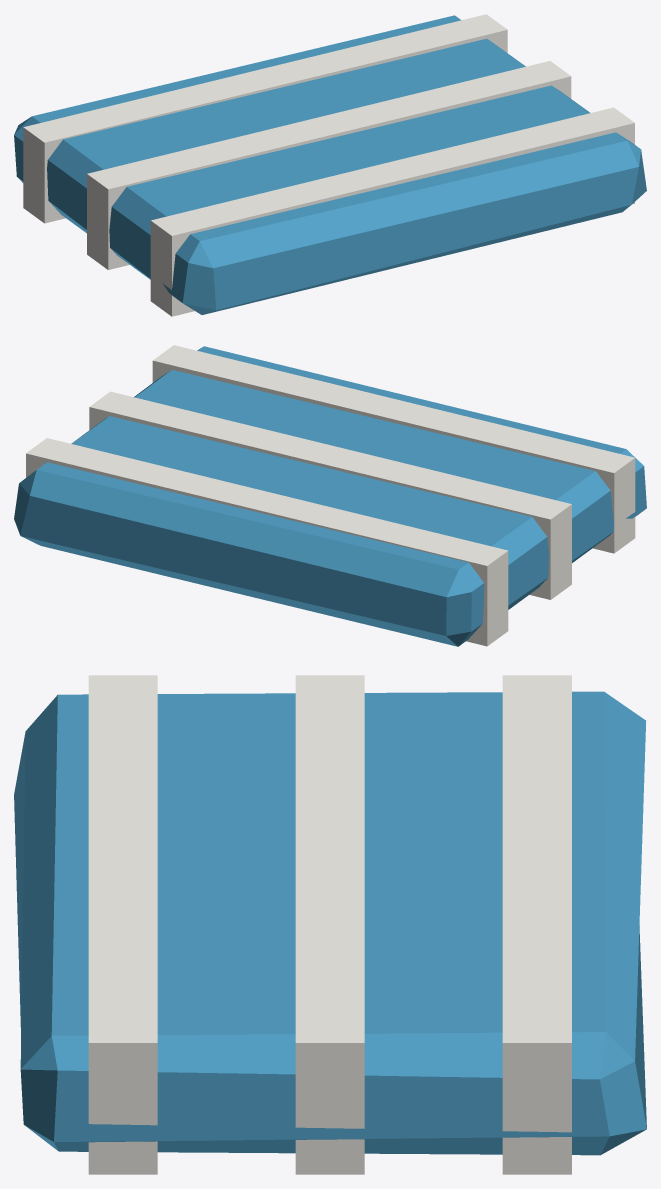
The model's file is towel.fbx.
3 views of the same model, one above another, from view 1: azimuth 30°, elevation 25°; view 2: azimuth 150°, elevation 25°; view 3: azimuth 270°, elevation 25° (orthographic). The views are drawn at different scales.
Parts seen in each view (by area): view 1: towel; view 2: towel; view 3: towel.
Boxes of the visible parts, x1=… form: towel: x1=14, y1=14, x2=646, y2=316; towel: x1=14, y1=345, x2=646, y2=646; towel: x1=14, y1=675, x2=646, y2=1174.
Bounding box in the file's own units: 1.01 × 0.168 × 0.7335.
